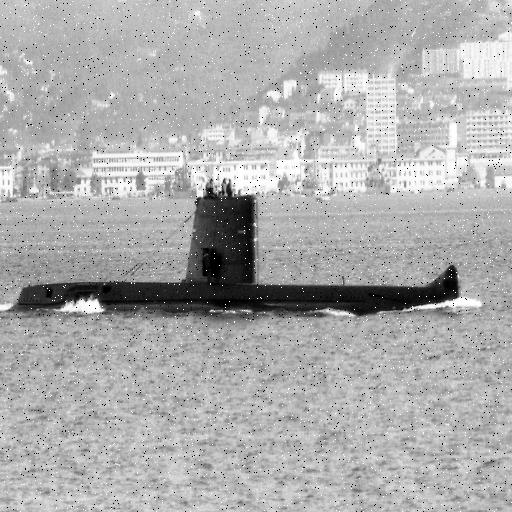submarine: (19, 178, 463, 307)
